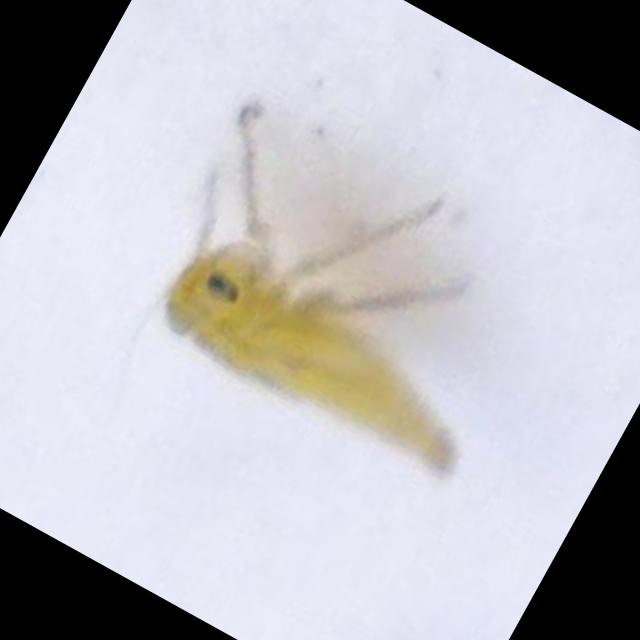green-leafhopper: (134, 183, 526, 502)
